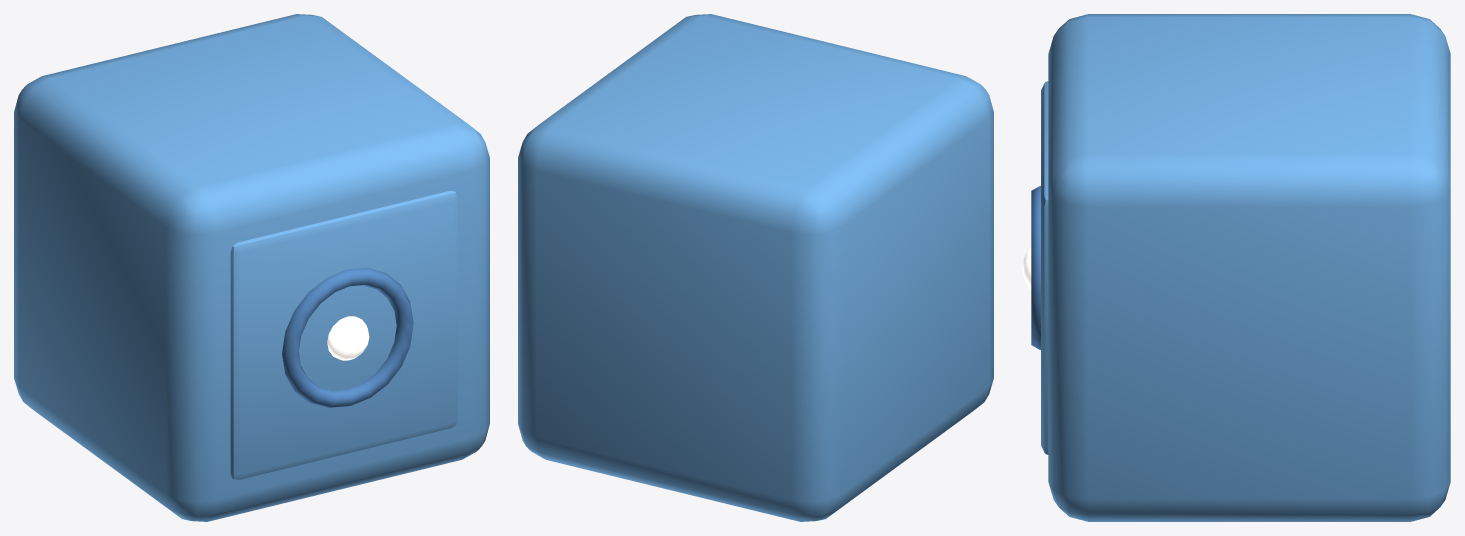
File: tile_block.glb
The picture shows the model from 3 angles, left to right: view 1: azimuth 30°, elevation 25°; view 2: azimuth 150°, elevation 25°; view 3: azimuth 270°, elevation 25°; orthographic projection. The views are drawn at different scales.
Visible parts, largest first — view 1: tile_block; view 2: tile_block; view 3: tile_block.
Boxes of the visible parts, <box> form: tile_block: <box>14,14,489,521</box>; tile_block: <box>518,14,993,521</box>; tile_block: <box>1022,14,1450,521</box>.
Bounding box in the file's own units: 0.5 × 0.5 × 0.5324.
